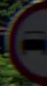No overtake: (6, 1, 43, 74)
